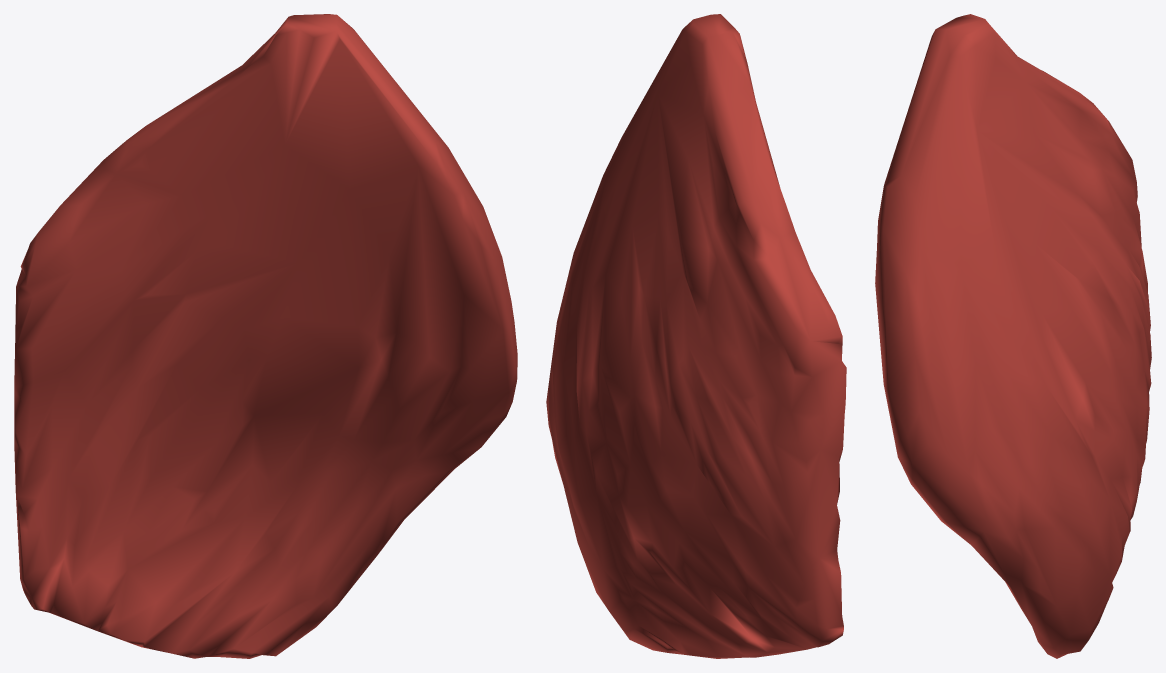
File: musculos-posterior-crico-arytenoid-muscle-l.glb
The picture shows the model from 3 angles, left to right: view 1: azimuth 30°, elevation 25°; view 2: azimuth 150°, elevation 25°; view 3: azimuth 270°, elevation 25°; orthographic projection. The views are drawn at different scales.
Parts seen in each view (by area): view 1: Posterior crico-arytenoid muscle.l; view 2: Posterior crico-arytenoid muscle.l; view 3: Posterior crico-arytenoid muscle.l.
Part boxes in pixels (left/top/right/bottom): Posterior crico-arytenoid muscle.l: left=14, top=14, right=517, bottom=658; Posterior crico-arytenoid muscle.l: left=546, top=14, right=846, bottom=658; Posterior crico-arytenoid muscle.l: left=875, top=14, right=1151, bottom=658.
Size of the model in its own units: 0.00909 by 0.0143 by 0.00573.
